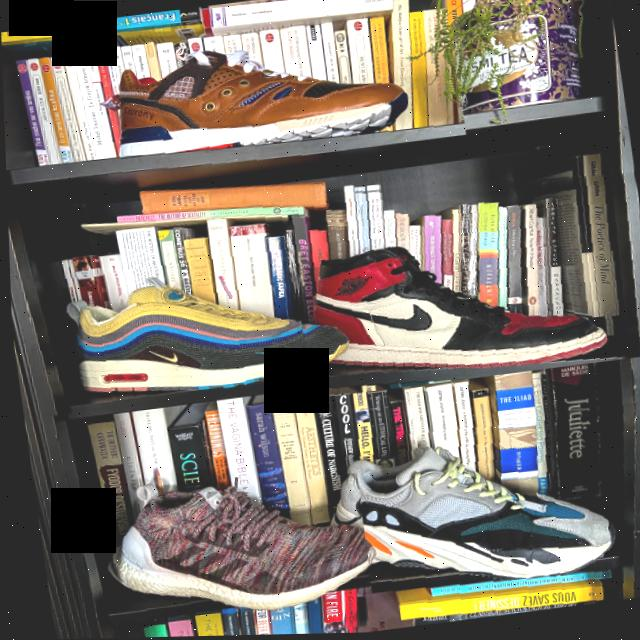shoe: (249, 152, 640, 403), (323, 395, 640, 635), (83, 28, 466, 182), (17, 234, 308, 417), (60, 474, 374, 639)
